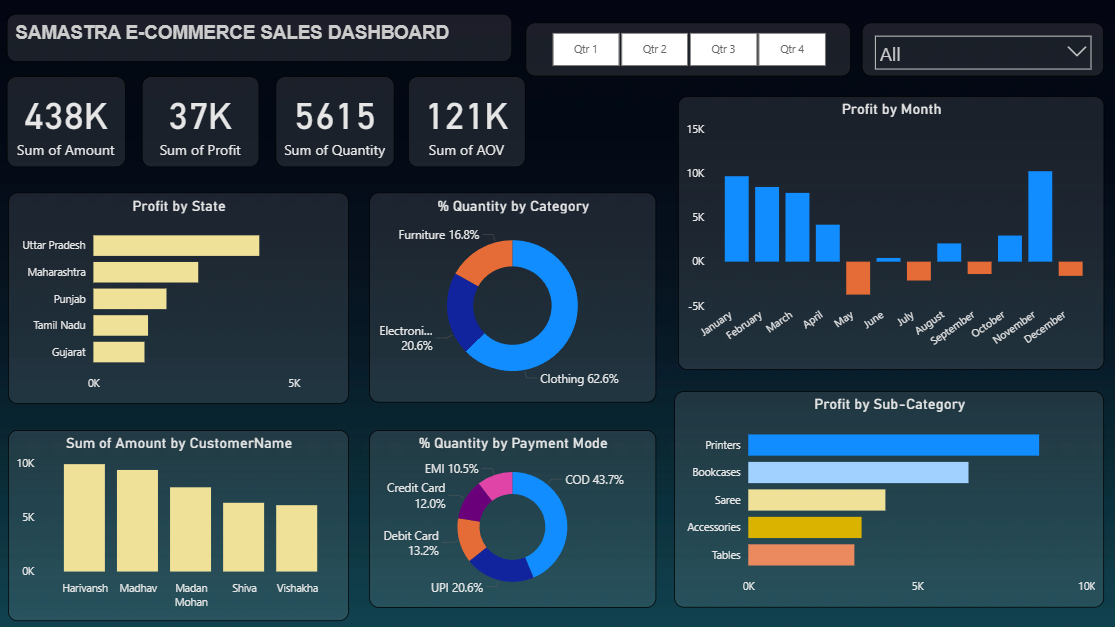

The dashboard page shown, as its layout file describes it:
{"tool":"powerbi","page":{"name":"Page 1","canvas":[1280,720],"ordinal":0},"visuals":[{"type":"columnChart","title":"Profit by Month","fields":{"Category":["Orders.Order Date.Variation.Date Hierarchy.Month"],"Y":["Details.Profit"]},"box":[776.7,109.8,487.1,312.9],"z":0},{"type":"barChart","title":"Profit by Sub-Category","fields":{"Category":["Details.Sub-Category"],"Y":["Details.Profit"]},"box":[772.6,447.3,491.3,247],"z":1000},{"type":"donutChart","title":"%  Quantity by Category","fields":{"Category":["Details.Category"],"Y":["Details.Quantity"]},"box":[424,219.6,328,240.1],"z":2000},{"type":"donutChart","title":"% Quantity by Payment Mode","fields":{"Category":["Details.PaymentMode"],"Y":["Details.Quantity"]},"box":[424,491.3,328,203.1],"z":3000},{"type":"card","fields":{"Values":["Details.Amount"]},"box":[9.6,87.8,135.8,104.3],"z":4000},{"type":"card","fields":{"Values":["Details.AOV"]},"box":[467.9,87.8,134.5,104.3],"z":5000},{"type":"card","fields":{"Values":["Details.Quantity"]},"box":[317,87.8,135.8,104.3],"z":6000},{"type":"card","fields":{"Values":["Details.Profit"]},"box":[164.7,87.8,134.5,104.3],"z":7000},{"type":"barChart","title":"Profit by State","fields":{"Category":["Orders.State"],"Y":["Details.Amount"]},"box":[11,219.6,389.7,241.5],"z":8000},{"type":"columnChart","fields":{"Y":["Details.Amount"],"Category":["Orders.CustomerName"]},"box":[11,491.3,389.7,218.2],"z":9000},{"type":"slicer","fields":{"Values":["Orders.Order Date.Variation.Date Hierarchy.Quarter"]},"box":[602.4,26.1,371.9,61.7],"z":10000},{"type":"slicer","fields":{"Values":["Orders.State"]},"box":[986.6,26.1,277.2,61.7],"z":11000},{"type":"textbox","box":[9.6,15.1,577.7,54.9],"z":12000}]}

Visuals, with their boxes in screenshot pixels (x1, y1, x2, y2), scaled from the page's 1280x720 canvas onto the 1115x627 screenshot:
"Profit by Month" columnChart: BBox(677, 96, 1101, 368)
"Profit by Sub-Category" barChart: BBox(673, 390, 1101, 605)
"%  Quantity by Category" donutChart: BBox(369, 191, 655, 400)
"% Quantity by Payment Mode" donutChart: BBox(369, 428, 655, 605)
card - Details.Amount: BBox(8, 76, 127, 167)
card - Details.AOV: BBox(408, 76, 525, 167)
card - Details.Quantity: BBox(276, 76, 394, 167)
card - Details.Profit: BBox(143, 76, 261, 167)
"Profit by State" barChart: BBox(10, 191, 349, 402)
columnChart - Details.Amount x Orders.CustomerName: BBox(10, 428, 349, 618)
slicer - Orders.Order Date.Variation.Date Hierarchy.Quarter: BBox(525, 23, 849, 76)
slicer - Orders.State: BBox(859, 23, 1101, 76)
textbox: BBox(8, 13, 512, 61)
